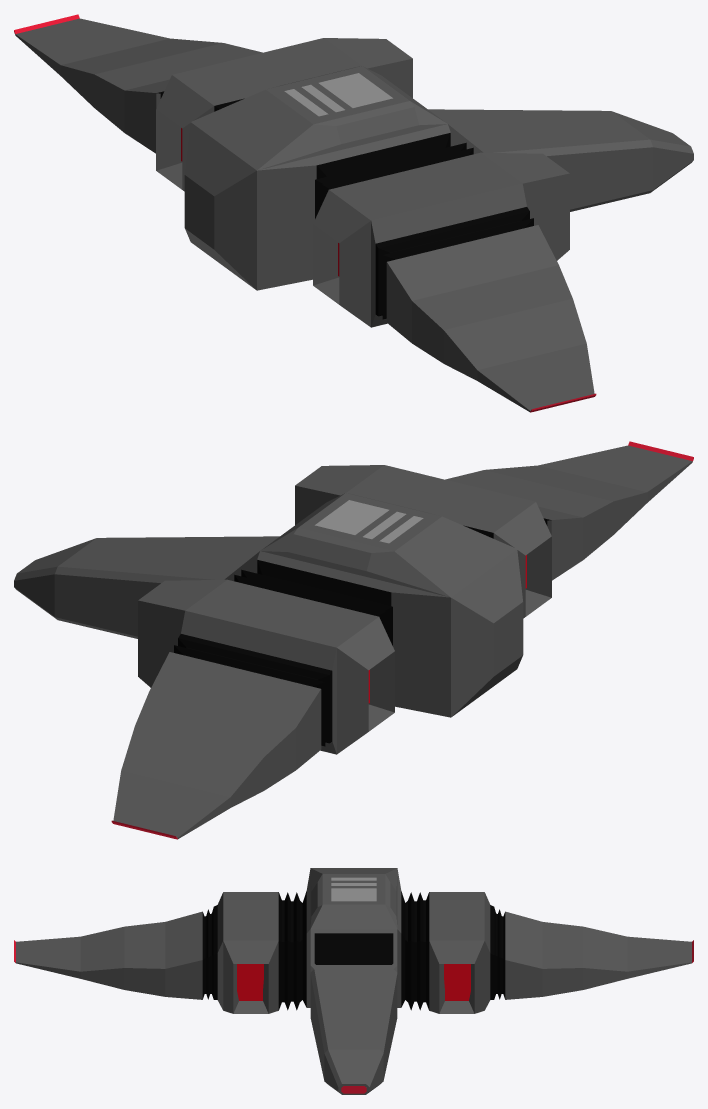
Rendered from spaceship2.glb.
The picture shows the model from 3 angles, top to bottom: view 1: azimuth 30°, elevation 25°; view 2: azimuth 150°, elevation 25°; view 3: azimuth 270°, elevation 25°; orthographic projection. The views are drawn at different scales.
Parts seen in each view (by area): view 1: Cube.004; view 2: Cube.004; view 3: Cube.004.
Boxes of the visible parts, x1,y1,x2,y2 form: Cube.004: [14, 14, 693, 412]; Cube.004: [14, 441, 693, 839]; Cube.004: [14, 868, 693, 1094].
Size of the model in its own units: 16.1 by 4.95 by 29.92.
